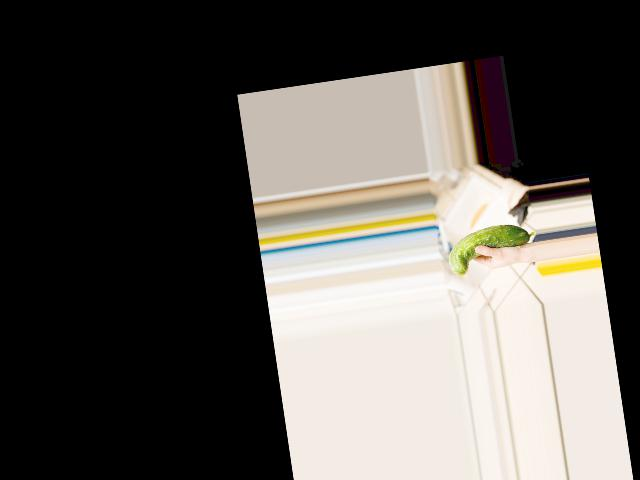cucumber: (444, 219, 539, 276)
